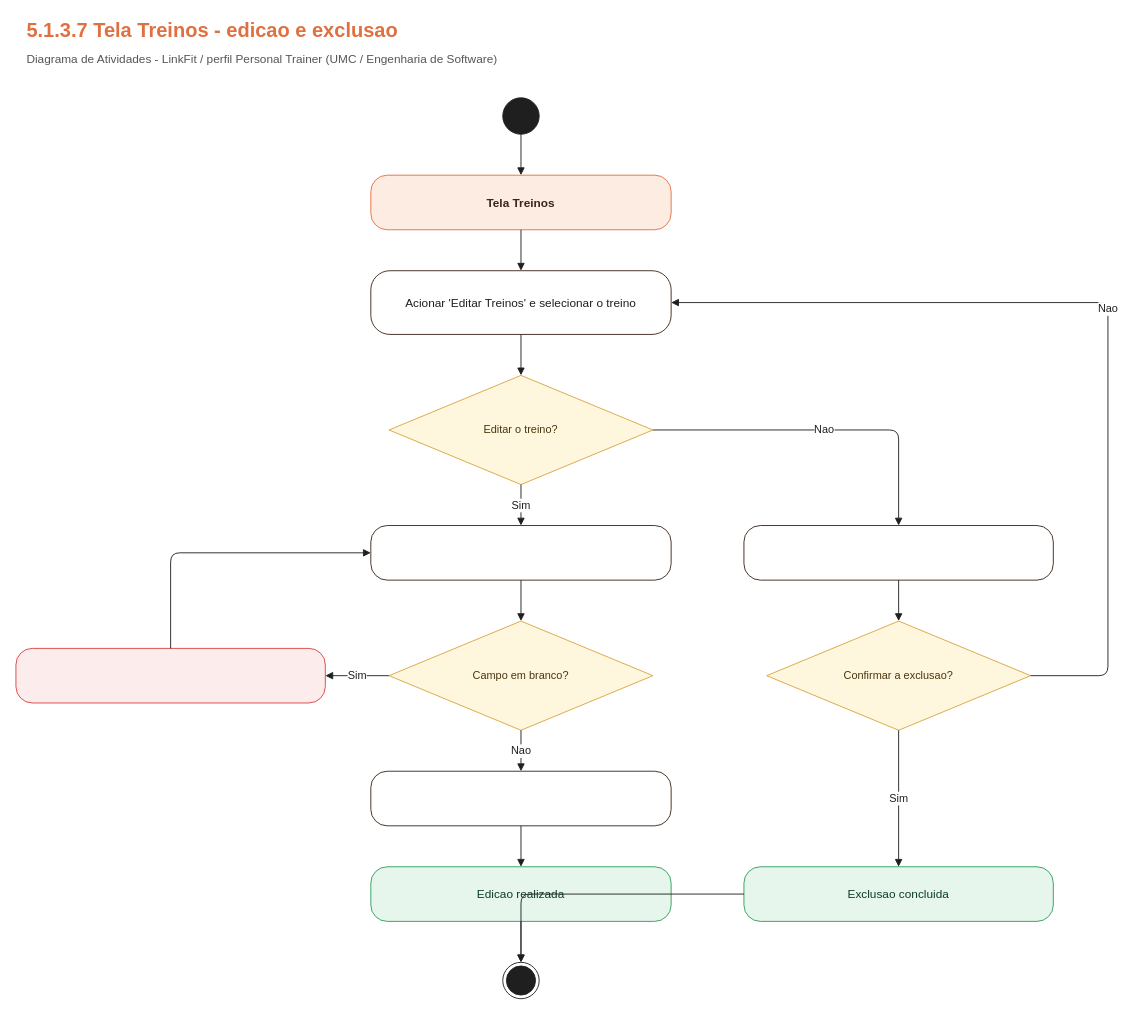
Image size: 1134x1015. Some labels were removed from this diagram. The shapes that lost their labels are listed below. From the top down, each one's box as (x1, y1, x2, y2) in pixels, then its label:
(370, 525, 671, 580): Alterar nome, aluno e exercicios
(743, 525, 1053, 580): Acionar 'Excluir' no treino selecionado
(15, 647, 325, 703): Corrigir o campo
(370, 770, 671, 826): Salvar as alteracoes
